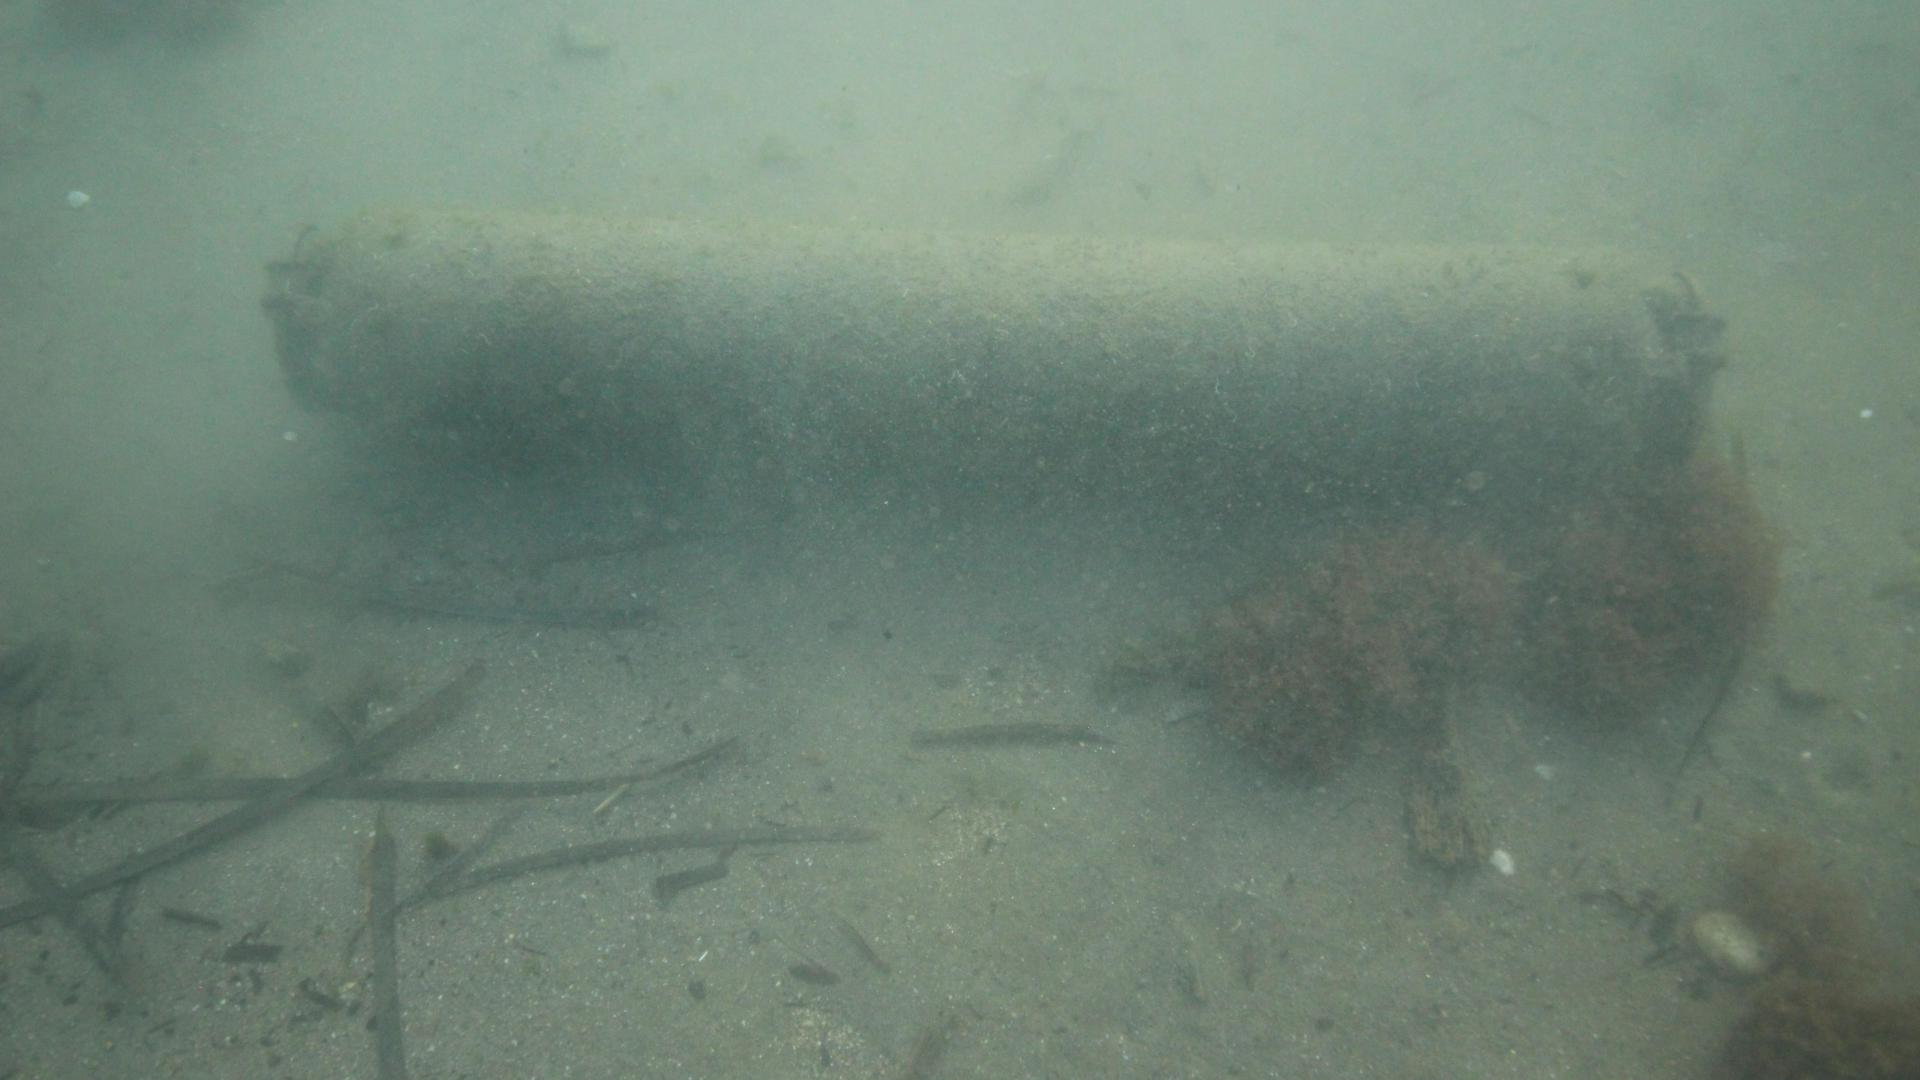eel fish trap: (265, 204, 1735, 514)
